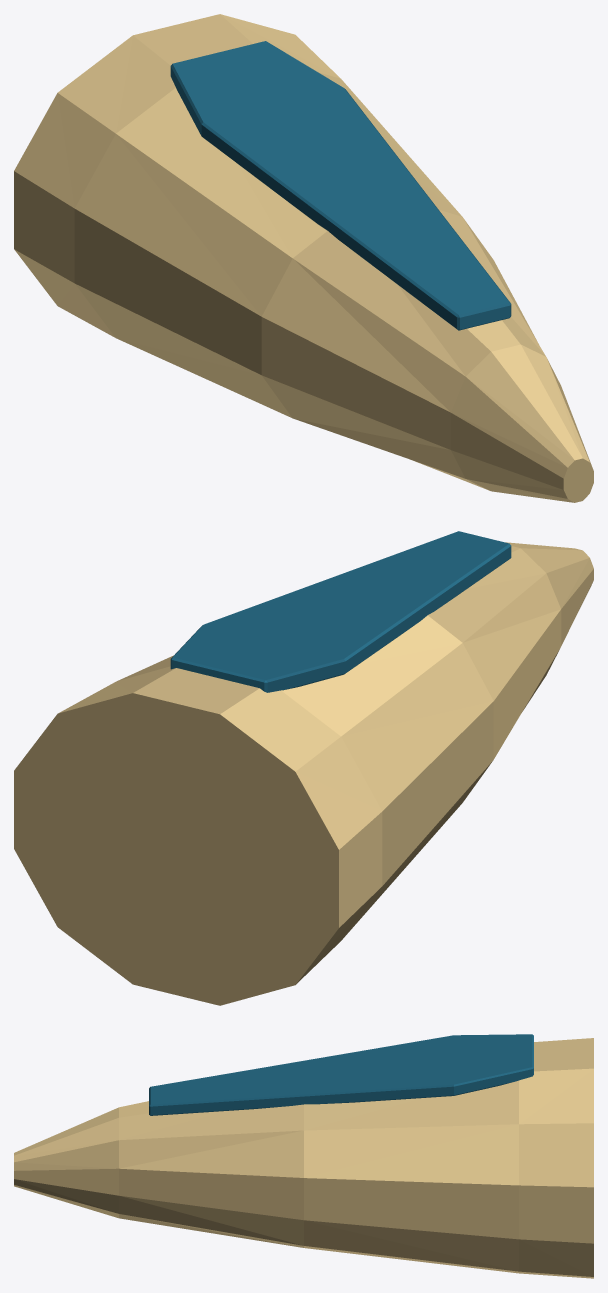
Rendered from EA_DeltaNose.fbx.
3 views of the same model, one above another, from view 1: azimuth 30°, elevation 25°; view 2: azimuth 150°, elevation 25°; view 3: azimuth 270°, elevation 25° (orthographic). The views are drawn at different scales.
Visible parts, largest first — view 1: EA_DeltaNose; view 2: EA_DeltaNose; view 3: EA_DeltaNose.
Part boxes in pixels (box(x1,y1,x2,y2)): EA_DeltaNose: box(14, 14, 593, 502); EA_DeltaNose: box(14, 531, 593, 1005); EA_DeltaNose: box(14, 1034, 593, 1278).
Bounding box in the file's own units: 0.5409 × 0.4693 × 1.16.
Materials: 2 (2 with a texture image).
